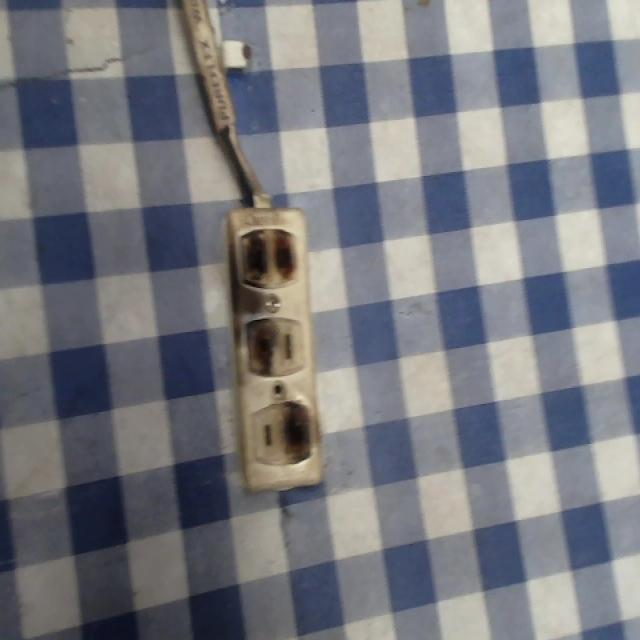-: (229, 219, 299, 289), (280, 398, 315, 462), (247, 318, 280, 378)
